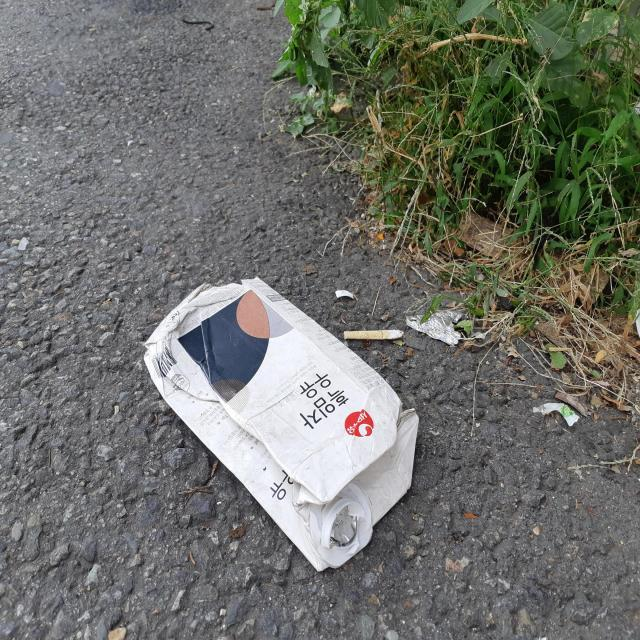paperpack: (144, 277, 419, 571)
